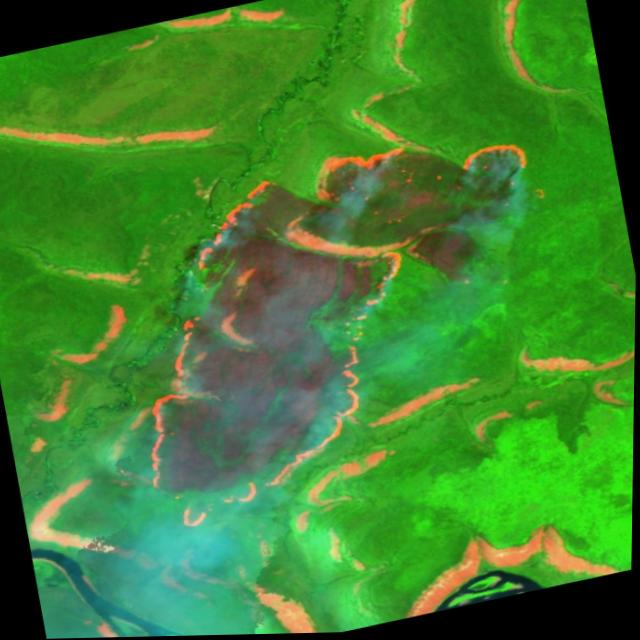fire: (87, 112, 597, 543)
